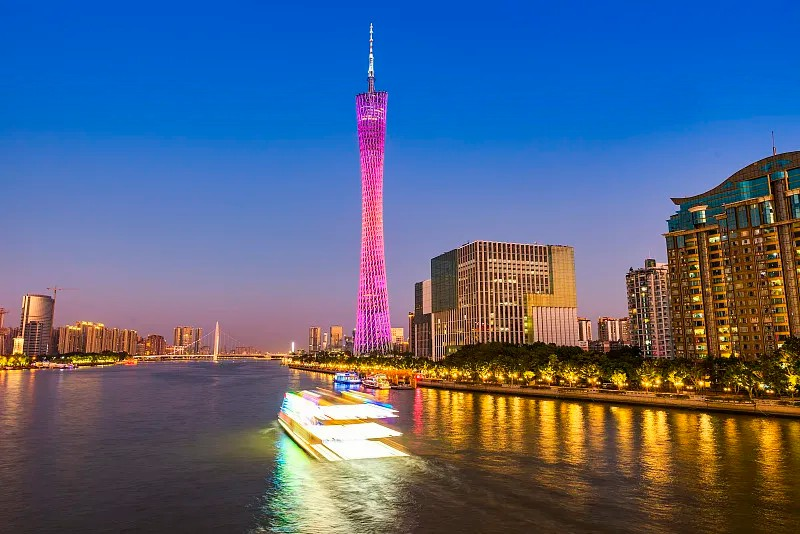Canton: (355, 19, 393, 354)
